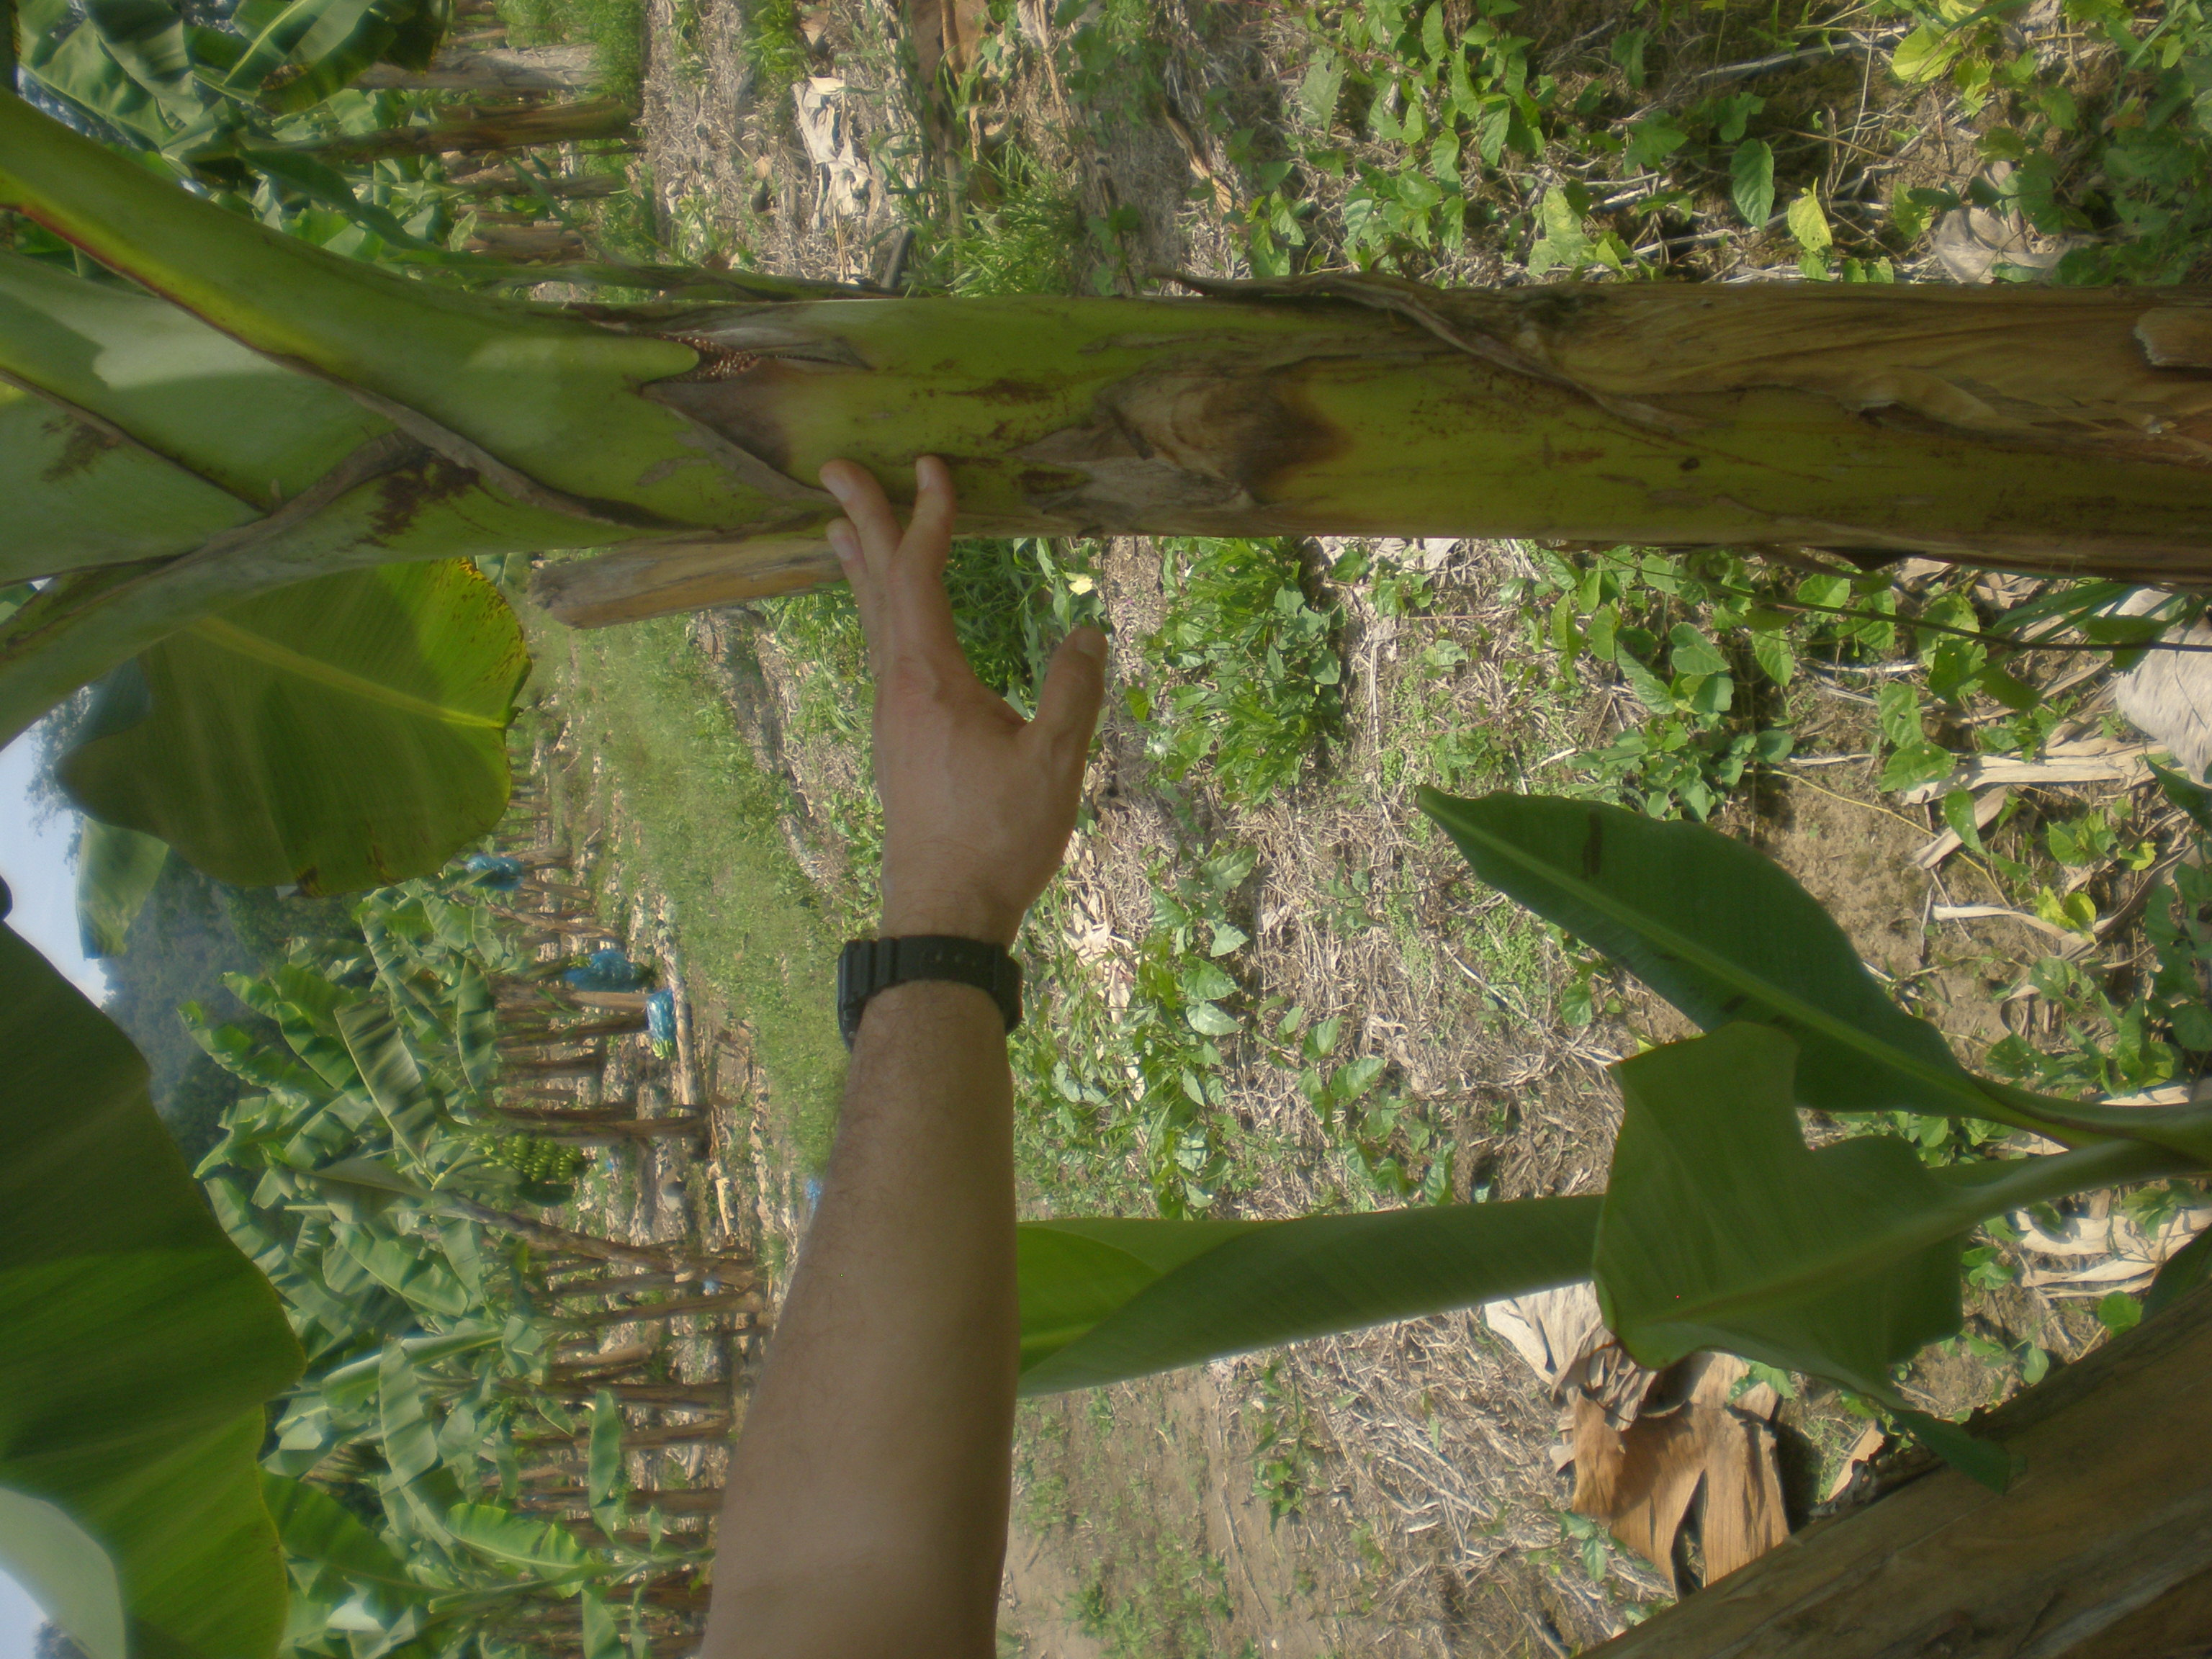candleleafs: (1021, 1190, 1590, 1410)
